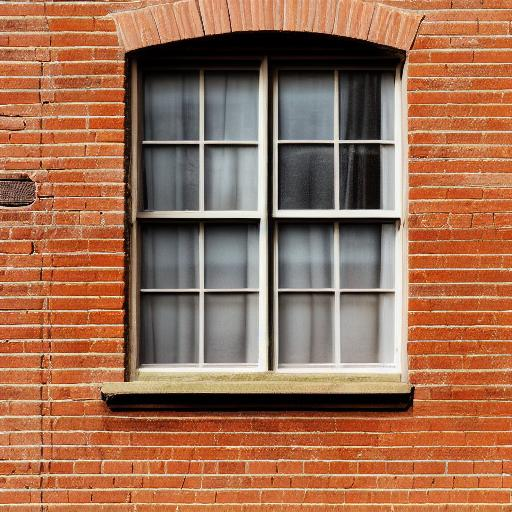Window: (99, 3, 425, 416)
